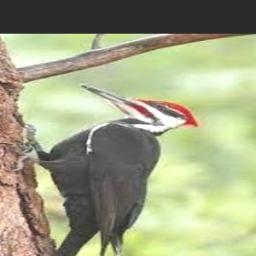Woodpecker: (1, 84, 199, 256)
